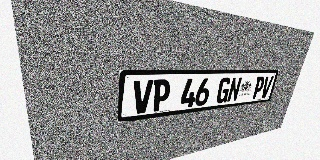4: (180, 78, 198, 108)
6: (194, 78, 212, 106)
G: (215, 77, 232, 104)
N: (226, 77, 242, 102)
P: (151, 79, 171, 112), (251, 76, 266, 99)
V: (132, 80, 153, 114), (260, 76, 274, 98)
